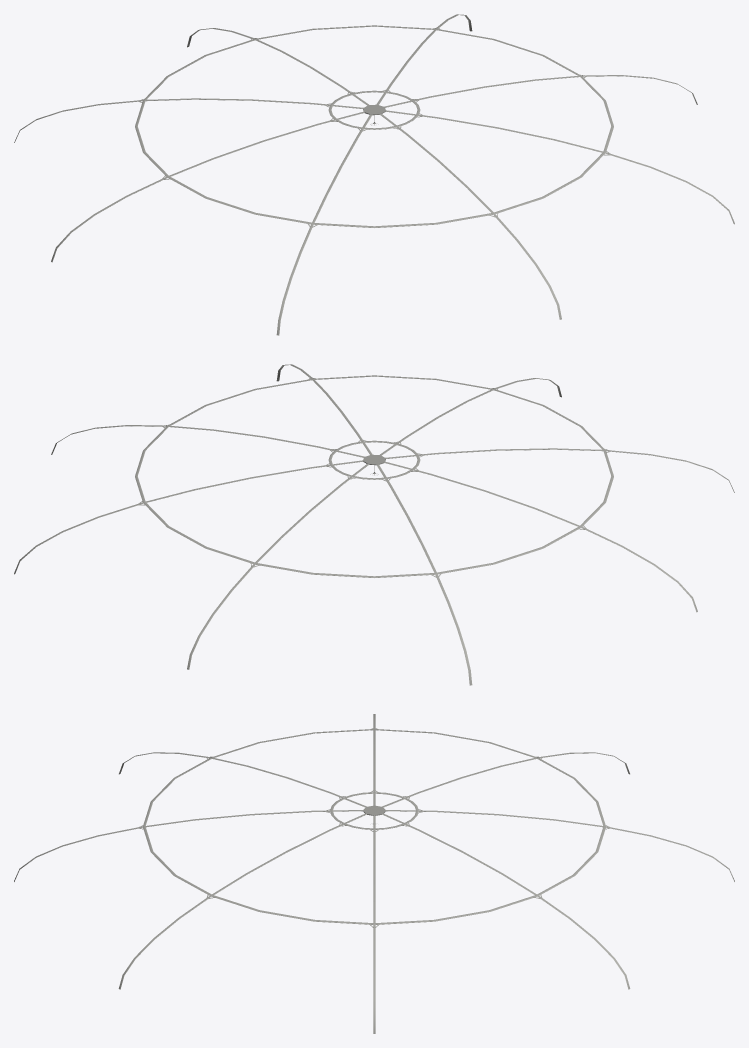
File: objects_un_dlc2_domeframe01.gltf
3 renders of one model, top to bottom at view 1: azimuth 30°, elevation 25°; view 2: azimuth 150°, elevation 25°; view 3: azimuth 270°, elevation 25°, orthographic. The views are drawn at different scales.
Parts seen in each view (by area): view 1: um_objects_un_dlc2_domeframe01_model_objects_un_dlc2_domefra; view 2: um_objects_un_dlc2_domeframe01_model_objects_un_dlc2_domefra; view 3: um_objects_un_dlc2_domeframe01_model_objects_un_dlc2_domefra.
Part boxes in pixels (box(x1,y1,x2,y2)): um_objects_un_dlc2_domeframe01_model_objects_un_dlc2_domefra: box(14, 14, 734, 335); um_objects_un_dlc2_domeframe01_model_objects_un_dlc2_domefra: box(14, 364, 734, 685); um_objects_un_dlc2_domeframe01_model_objects_un_dlc2_domefra: box(14, 714, 734, 1033).
Bounding box in the file's own units: 9279 × 1014 × 9279.
Materials: 2 (2 with a texture image).
